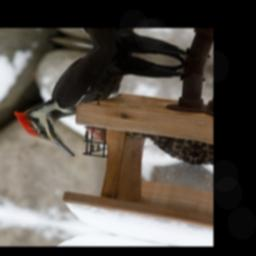Woodpecker: (0, 34, 194, 175)
